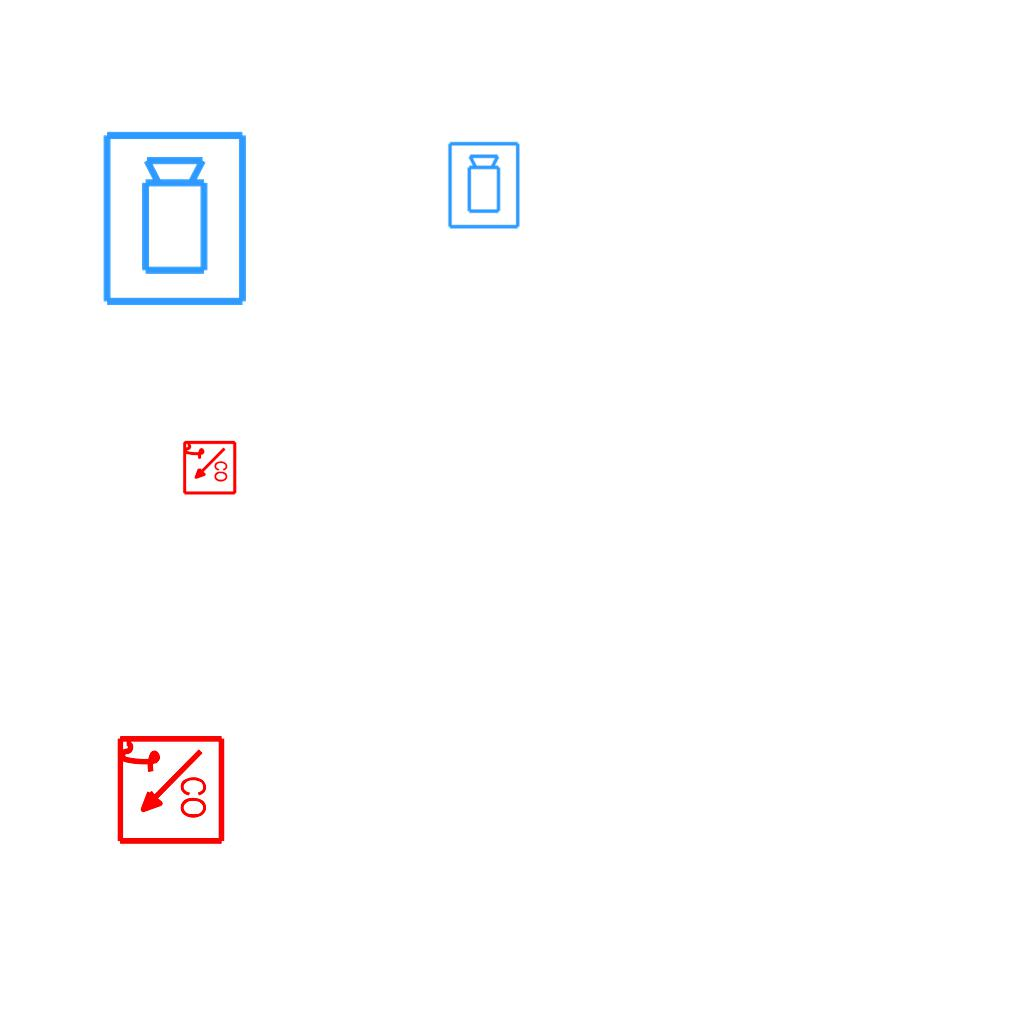KFO_Kamera_mit_Festobjektiv: (99, 128, 253, 310), (446, 140, 523, 231)
ROA_Rauchmelder_optisch_mit_Signalgeber_(Sockelsirene): (113, 734, 226, 847), (181, 440, 237, 496)
